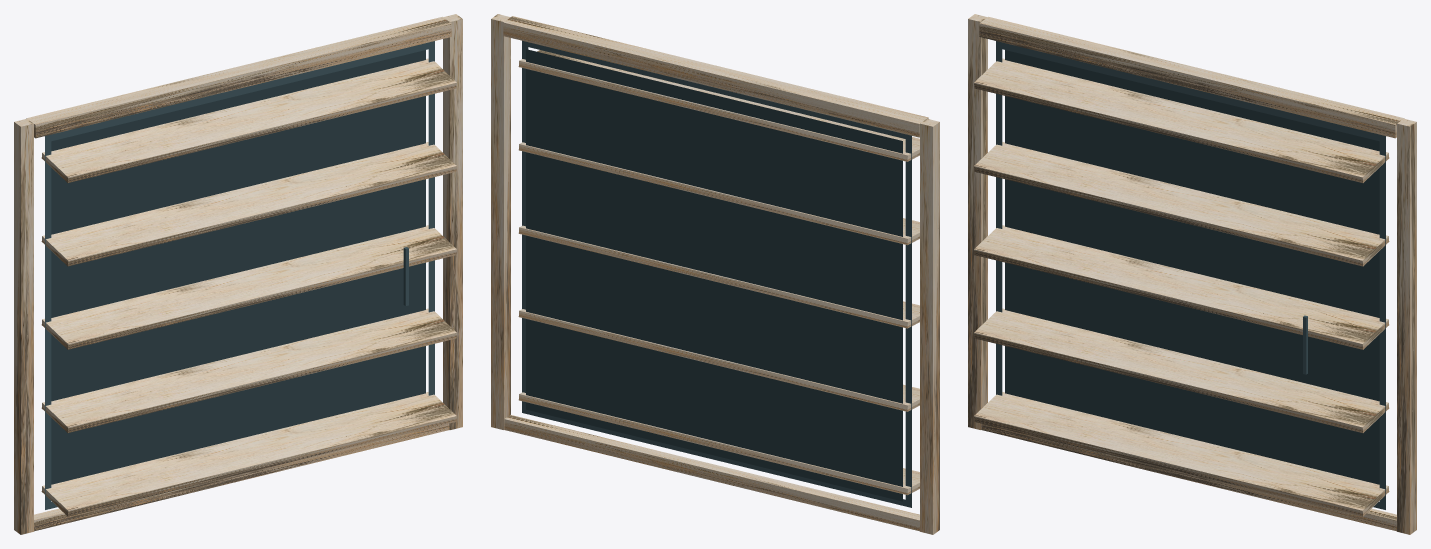
Rendered from facade_louvered_office_ground.glb.
3 views of the same model, side by side, from view 1: azimuth 30°, elevation 25°; view 2: azimuth 150°, elevation 25°; view 3: azimuth 330°, elevation 25° (orthographic).
Parts seen in each view (by area): view 1: lod1_facade_louvered_office_ground__VVK_concrete_CC0, lod1_facade_louvered_office_ground__VVK_dark_glass, lod1_facade_louvered_office_ground__VVK_painted_steel; view 2: lod1_facade_louvered_office_ground__VVK_dark_glass, lod1_facade_louvered_office_ground__VVK_concrete_CC0, lod1_facade_louvered_office_ground__VVK_painted_steel; view 3: lod1_facade_louvered_office_ground__VVK_concrete_CC0, lod1_facade_louvered_office_ground__VVK_dark_glass, lod1_facade_louvered_office_ground__VVK_painted_steel.
Part boxes in pixels (bbox=[...]): lod1_facade_louvered_office_ground__VVK_concrete_CC0: bbox=[14, 14, 462, 534]; lod1_facade_louvered_office_ground__VVK_dark_glass: bbox=[51, 50, 425, 484]; lod1_facade_louvered_office_ground__VVK_painted_steel: bbox=[45, 41, 434, 509]; lod1_facade_louvered_office_ground__VVK_dark_glass: bbox=[526, 49, 902, 501]; lod1_facade_louvered_office_ground__VVK_concrete_CC0: bbox=[491, 14, 939, 534]; lod1_facade_louvered_office_ground__VVK_painted_steel: bbox=[522, 40, 911, 507]; lod1_facade_louvered_office_ground__VVK_concrete_CC0: bbox=[968, 14, 1416, 534]; lod1_facade_louvered_office_ground__VVK_dark_glass: bbox=[1005, 50, 1379, 484]; lod1_facade_louvered_office_ground__VVK_painted_steel: bbox=[996, 41, 1385, 509].
Size of the model in its own units: 3.4 by 3 by 0.4305.
Materials: 3 (1 with a texture image).
